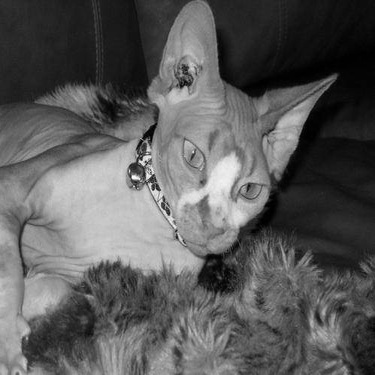cat: (8, 4, 336, 373)
